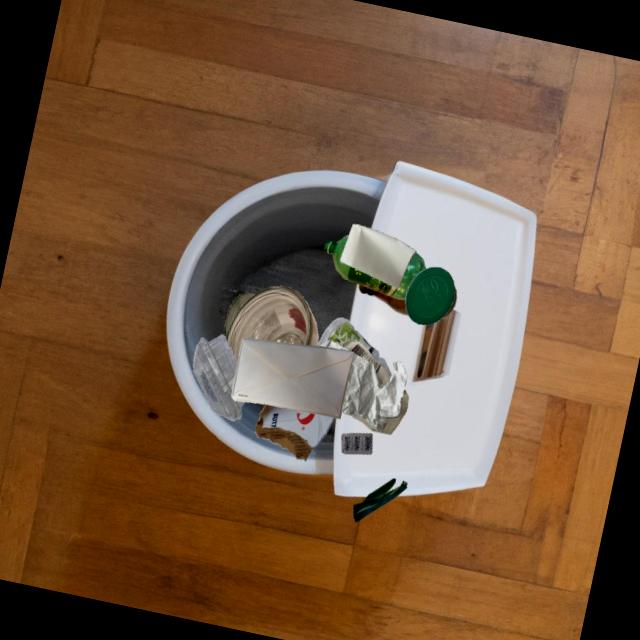biowaste: (353, 478, 406, 522)
cardboard: (255, 404, 334, 461)
glass: (226, 286, 318, 364), (351, 389, 408, 434), (339, 340, 390, 387), (358, 284, 408, 315), (223, 293, 254, 340)
paper: (231, 337, 354, 418), (341, 353, 407, 431), (339, 224, 416, 288)
plastic: (324, 234, 425, 299), (192, 334, 244, 421), (317, 317, 391, 377), (404, 267, 454, 324), (341, 433, 372, 454)
